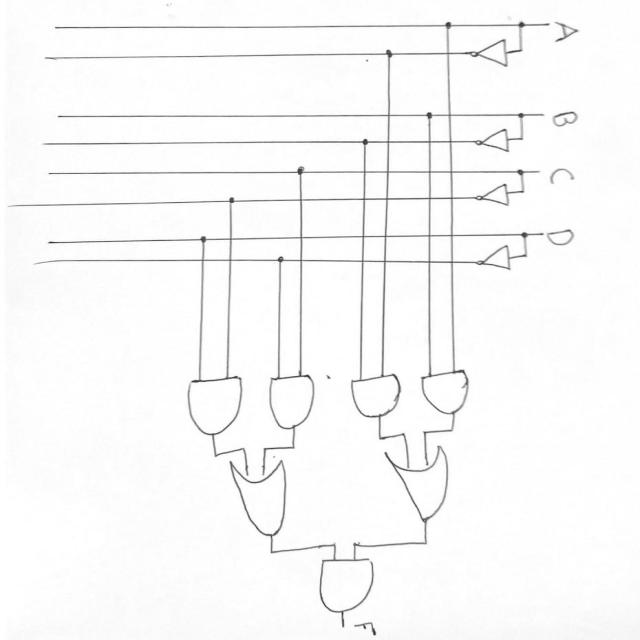AND: (309, 554, 392, 618), (177, 374, 251, 440), (263, 365, 327, 435), (416, 358, 476, 419), (344, 372, 407, 423)
NOT: (466, 36, 522, 76), (468, 242, 520, 284), (470, 122, 518, 158), (466, 183, 519, 215)
OR: (373, 445, 483, 532), (208, 460, 312, 540)
